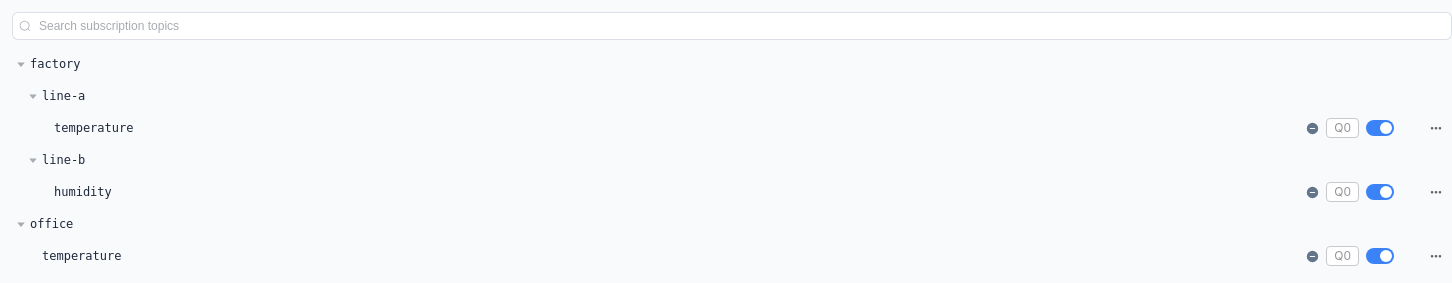
Test: SubscriptionTopicTree › searches complete topic filters and retains their parent nodes
Type "line-b/hum" into the field with test id "topic-tree-search" showing "Search subscription topics" at point(742, 26), box x1=39 y1=13 x2=1445 y2=39
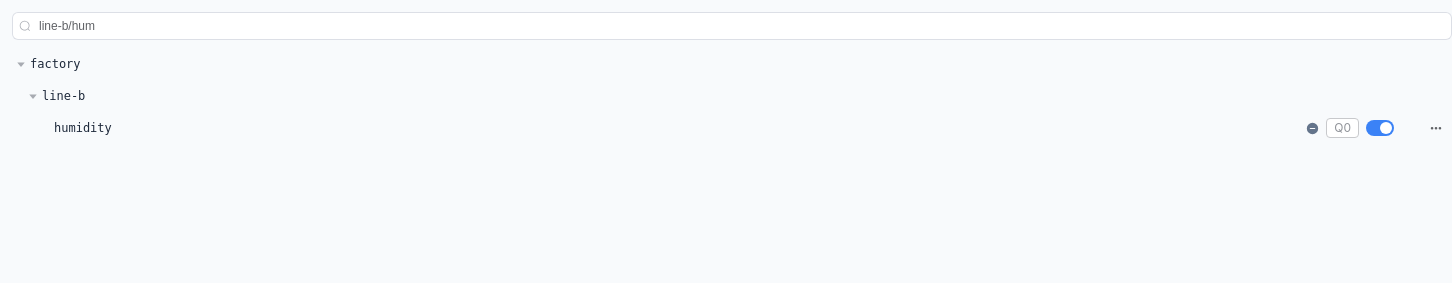
expect the text "factory" is shown: met, box x1=30 y1=57 x2=81 y2=71
expect the text "line-a" is gone: met
expect the text "office" is gone: met
